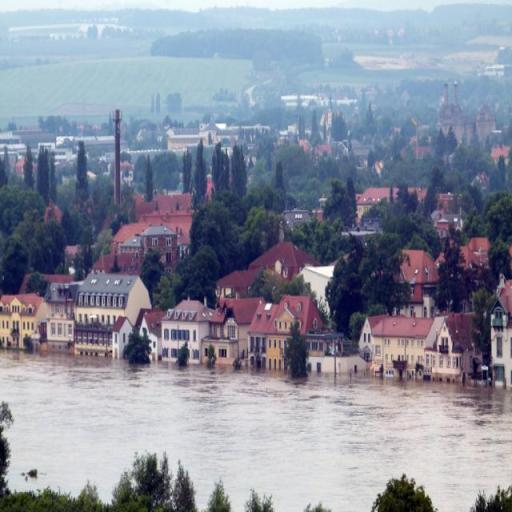flood: (0, 353, 512, 512)
house: (359, 315, 472, 388), (74, 269, 148, 360), (263, 294, 319, 375), (133, 199, 193, 270), (0, 288, 50, 358), (160, 298, 212, 364), (250, 238, 310, 288), (357, 185, 425, 223), (489, 278, 512, 390), (214, 299, 265, 346), (398, 248, 440, 304), (296, 264, 334, 314), (49, 280, 72, 352), (201, 336, 235, 366), (166, 126, 202, 150)
